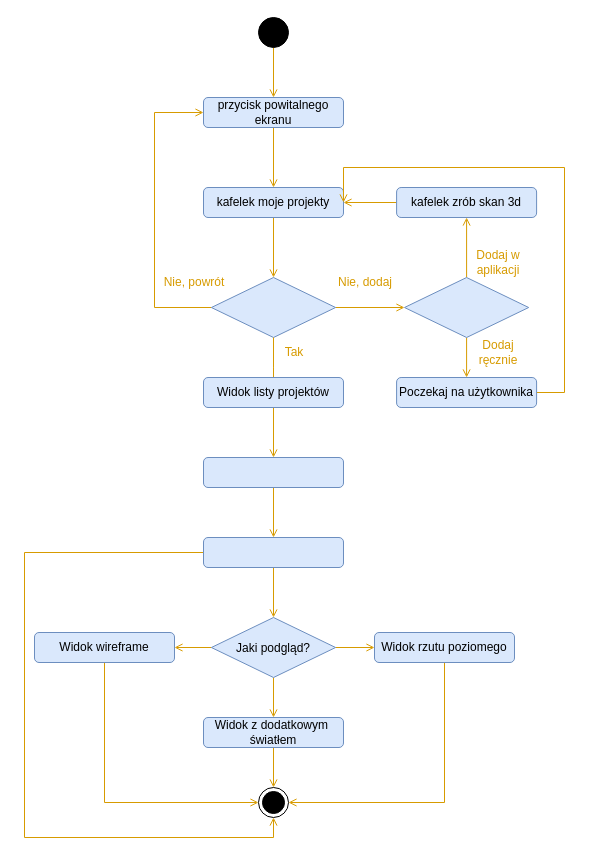
This 590x863 diagram has some shape labels left out. Each missing label, with the box of its shape:
Czy znaleziono projekty?: (210, 276, 336, 338)
W jaki sposób dodać skan?: (404, 276, 529, 338)
Widok projektu podstawowy: (202, 536, 344, 568)
Wybranie projektu: (202, 456, 344, 488)
